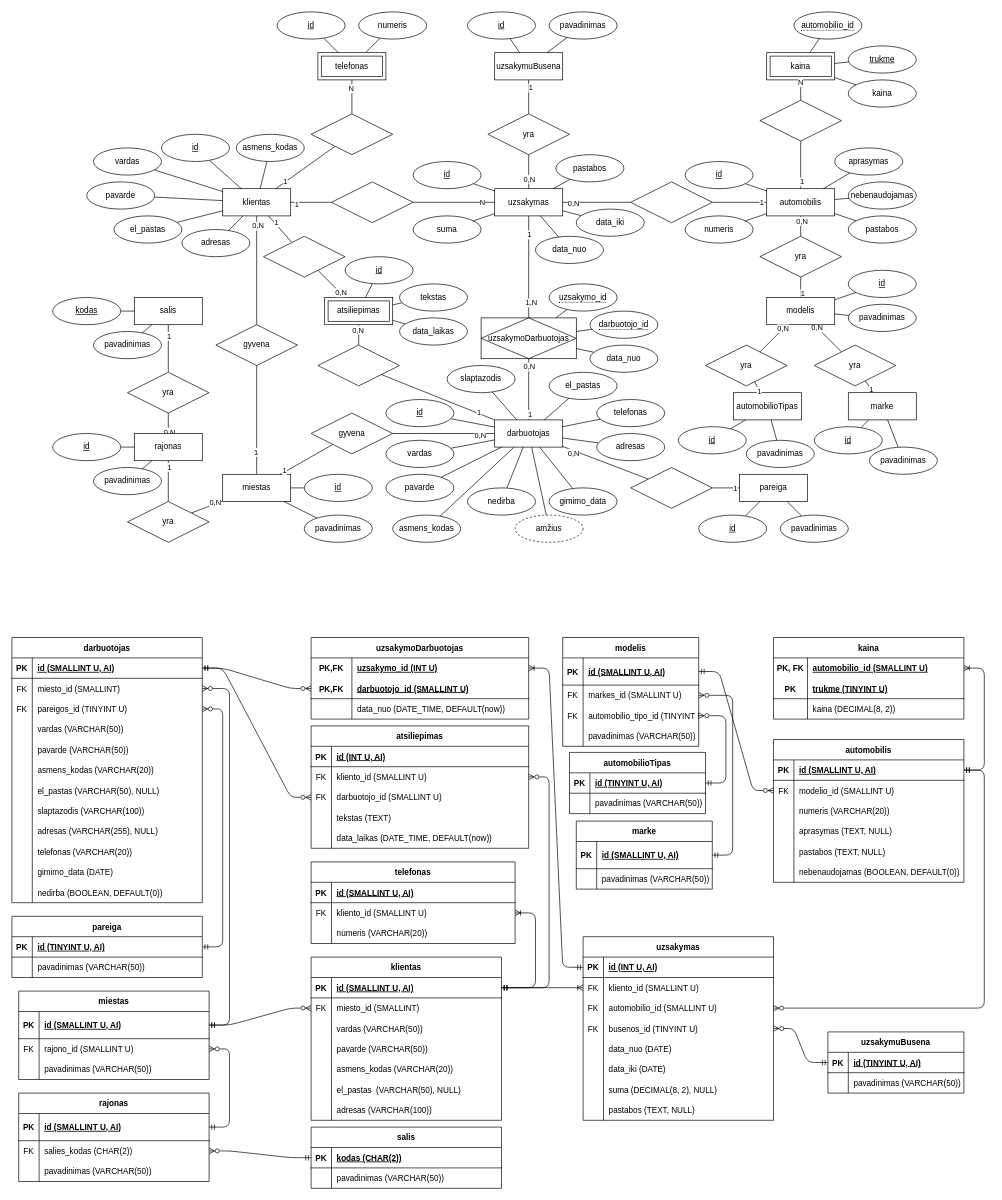
Some shapes in this 1002 by 1200 pixel diagram are drawn without their labels. The centre of each missing label's shape, as x and y in pixels:
"apie" belongs at pixel 304 256.
"daro" belongs at pixel 372 202.
"nuomojamas" belongs at pixel 671 202.
"nuomojamas už" belongs at pixel 800 120.
"raso" belongs at pixel 358 365.
"turi" belongs at pixel 351 134.
"užima" belongs at pixel 671 487.
